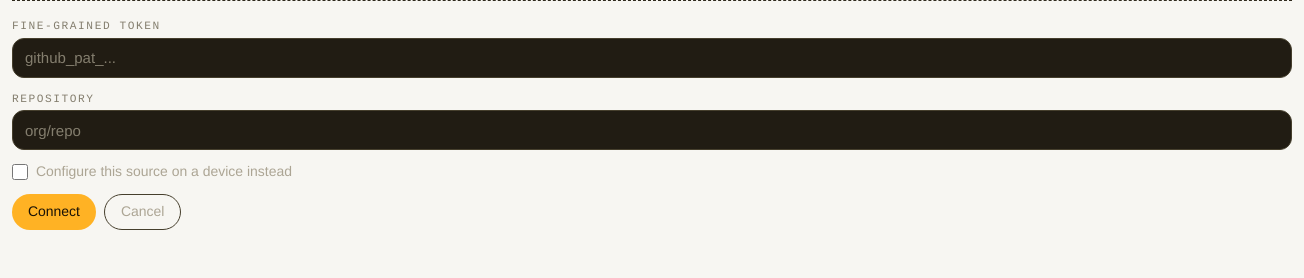
it: ConnectionsPage safety boundaries › never submits a credential with an invalid GitHub repository target
Type "owner/repo/extra" into the field labelled "Repository". click: (652, 130)
box: 12,110 -> 1292,150
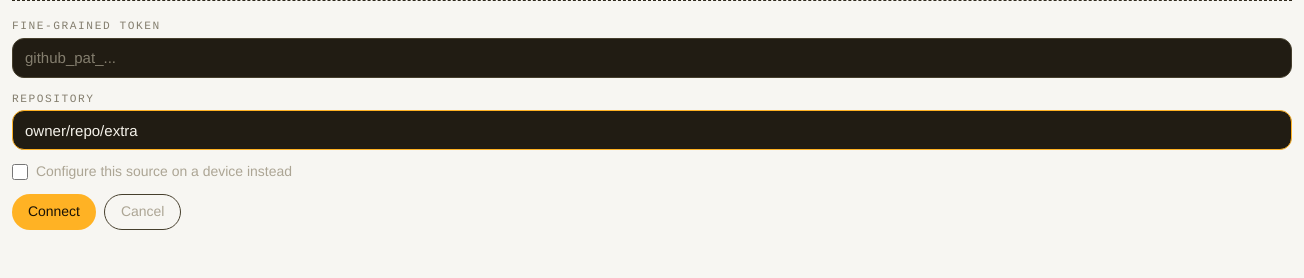
Type "github_pat_must_not_send" into the password field labelled "Fine-grained token". click: (652, 58)
box: 12,38 -> 1292,78
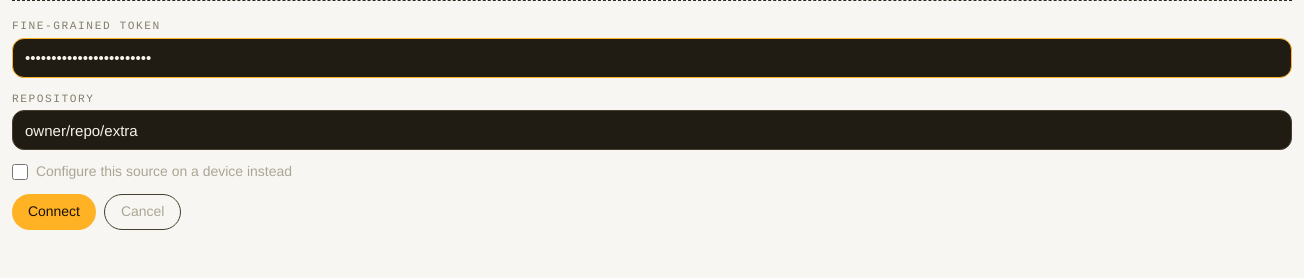
Submit the form
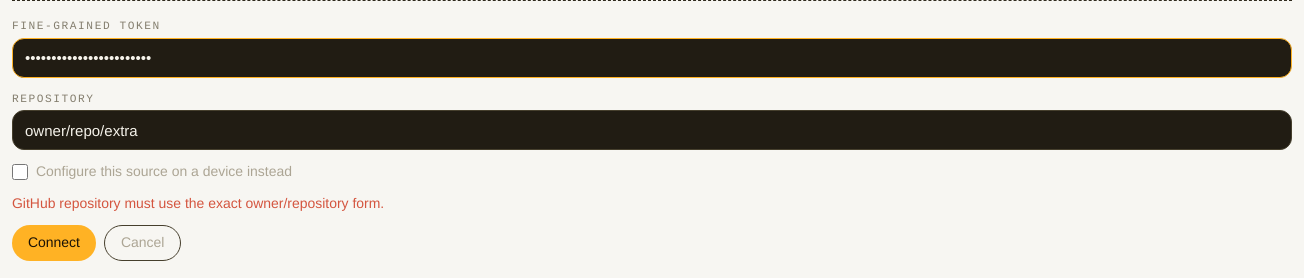
Now the message reads "GitHub repository must use the exact owner/repository form.", box 12,194 -> 384,210
